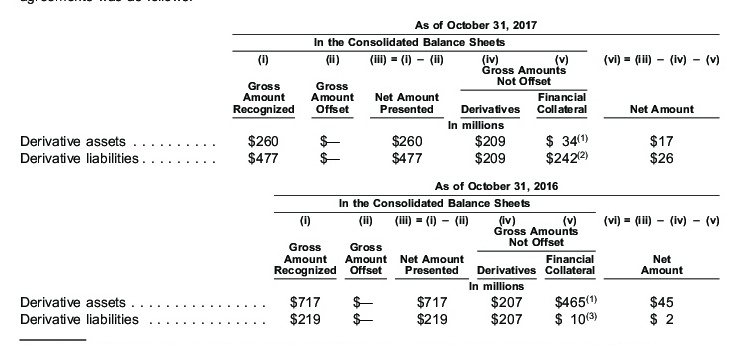table: (0, 0, 737, 345)
